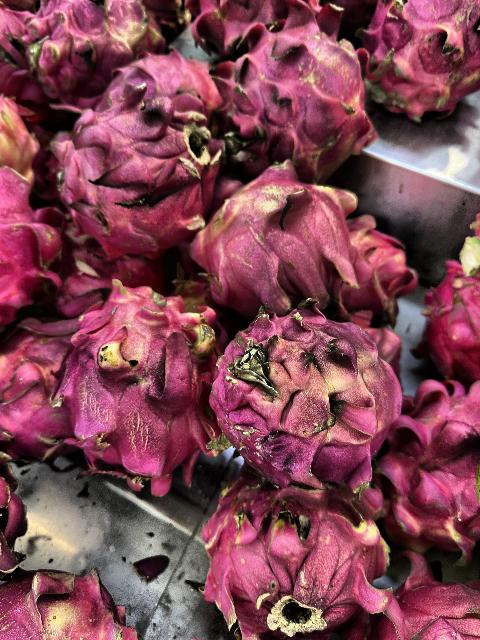buah-naga-belum-matang: (221, 291, 403, 479), (202, 463, 392, 625), (60, 292, 222, 463), (199, 170, 359, 302), (19, 0, 169, 82), (0, 556, 126, 640), (0, 86, 46, 176)
buah-naga-matang: (54, 88, 218, 262), (214, 27, 366, 169), (388, 372, 480, 552), (360, 0, 480, 126), (0, 308, 78, 466), (366, 556, 480, 640), (186, 0, 344, 46), (1, 165, 48, 308)
